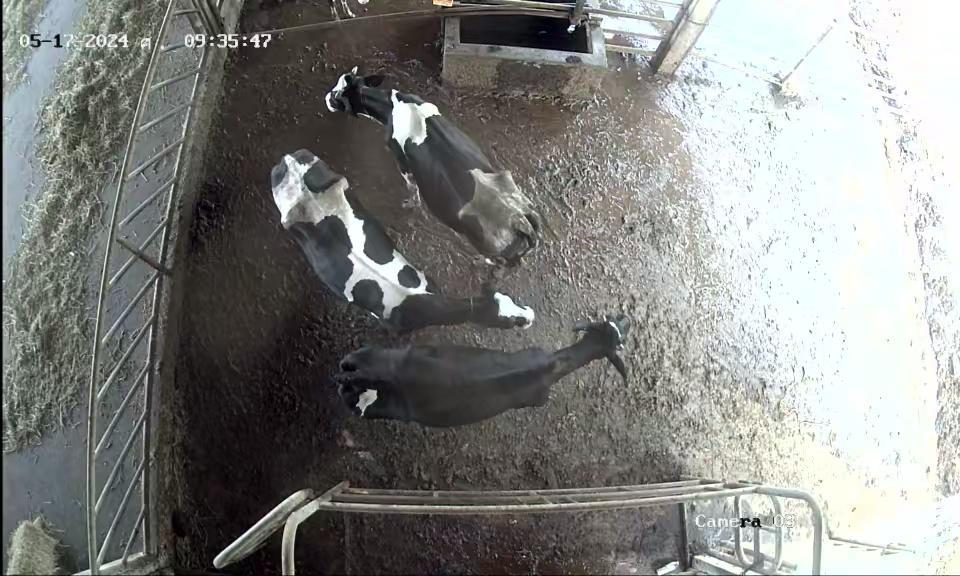stand: (266, 145, 539, 338), (322, 64, 566, 268), (312, 313, 644, 438)
